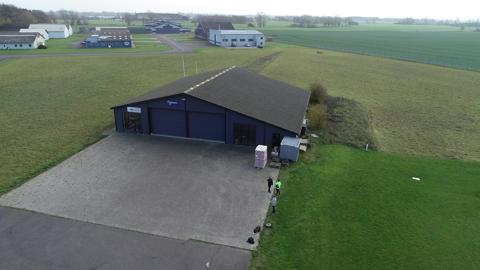RockwoolPallet: (254, 144, 268, 169)
